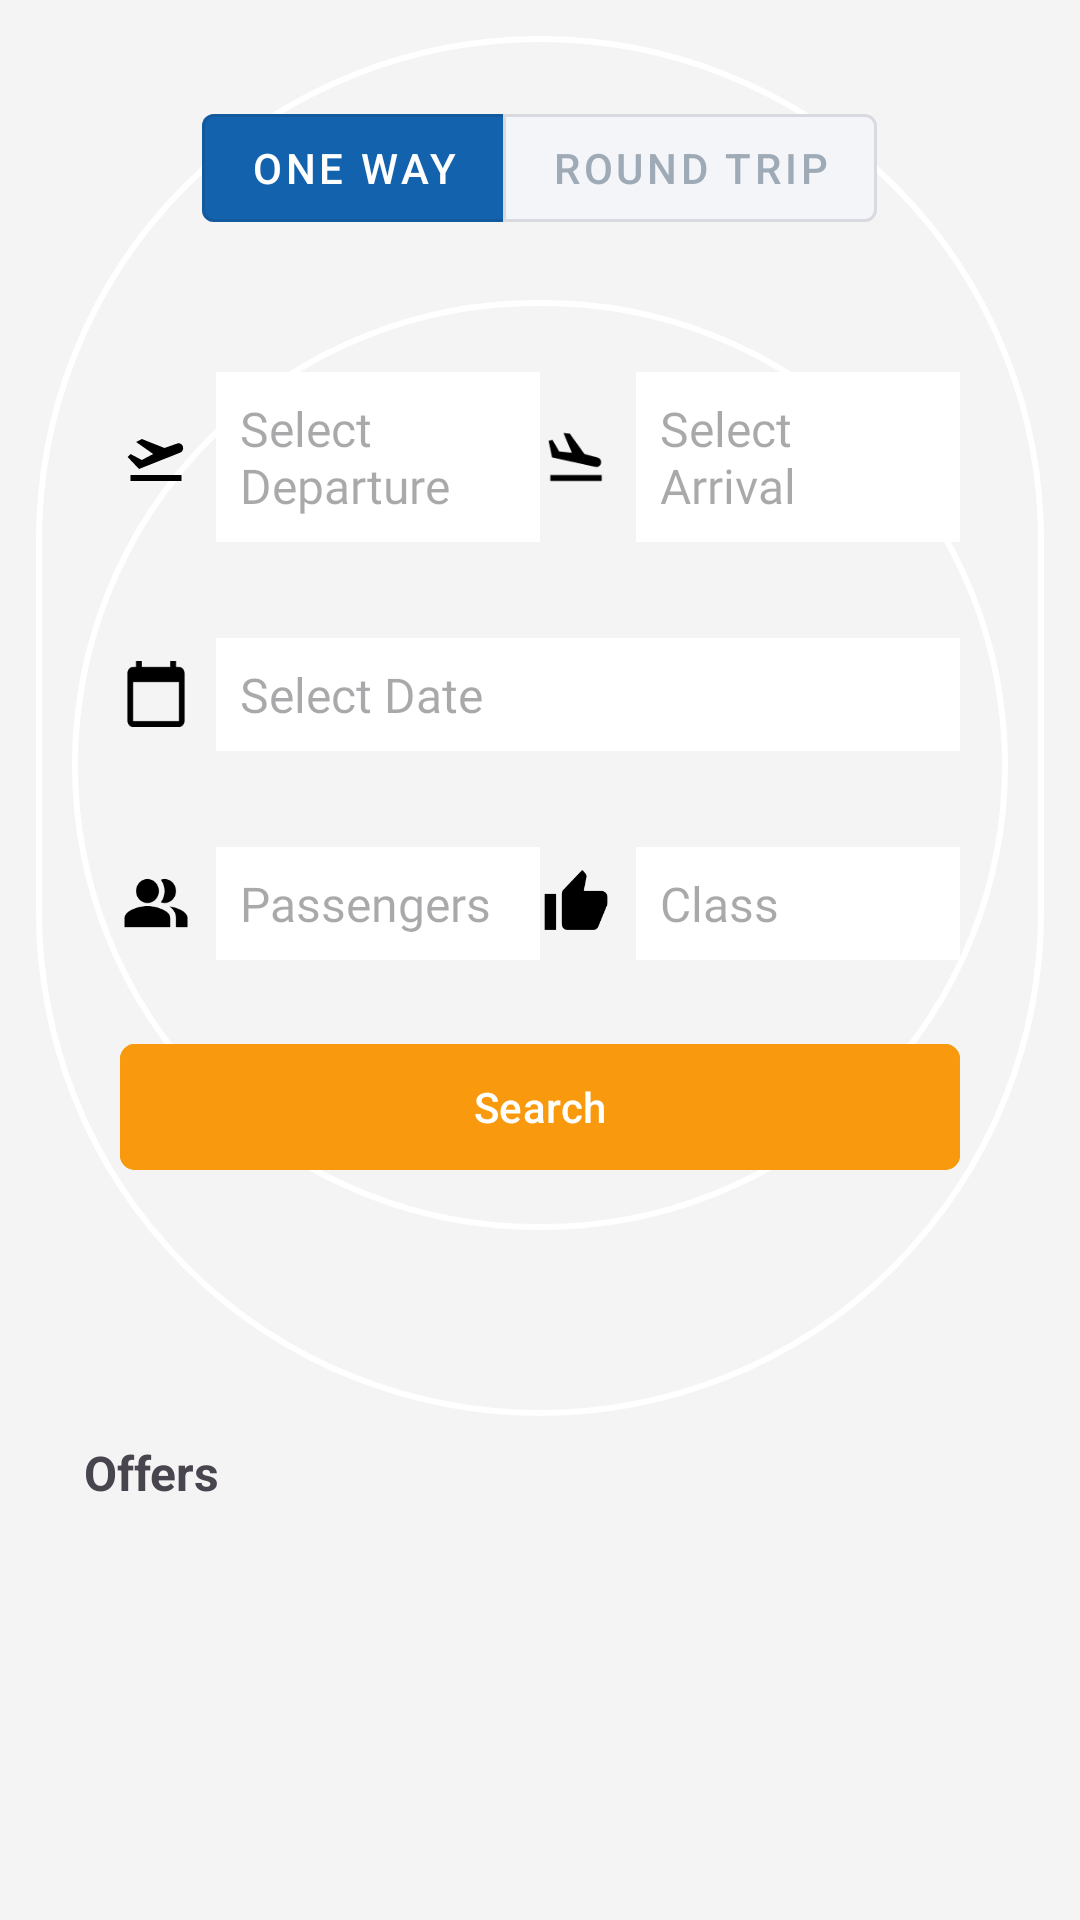

Locate icon controls on the screen. Image size 1080x1920, boxes as bbox=[x1, y1, x2, y2].
calendar: bbox=[127, 661, 185, 727]
